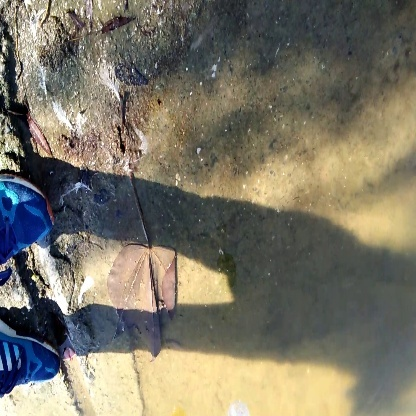leaf: (105, 170, 182, 360)
